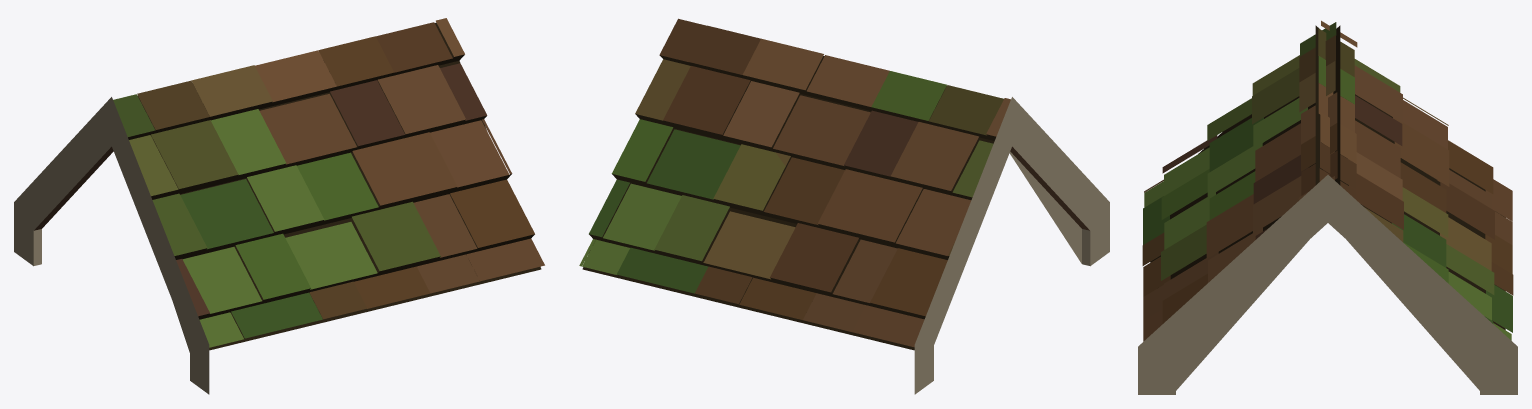
File: roof-high-gable-top-mossy.glb
3 views of the same model, side by side, from view 1: azimuth 30°, elevation 25°; view 2: azimuth 150°, elevation 25°; view 3: azimuth 270°, elevation 25° (orthographic). The views are drawn at different scales.
Visible parts, largest first — view 1: roof-high-gable-top-mossy; view 2: roof-high-gable-top-mossy; view 3: roof-high-gable-top-mossy.
Part boxes in pixels (x1,y1,x2,y2): roof-high-gable-top-mossy: [14, 18, 544, 394]; roof-high-gable-top-mossy: [579, 18, 1109, 394]; roof-high-gable-top-mossy: [1138, 20, 1517, 394].
Bounding box in the file's own units: 1 × 0.6407 × 1.
